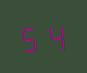five: (19, 21, 42, 53)
four: (43, 20, 66, 51)
